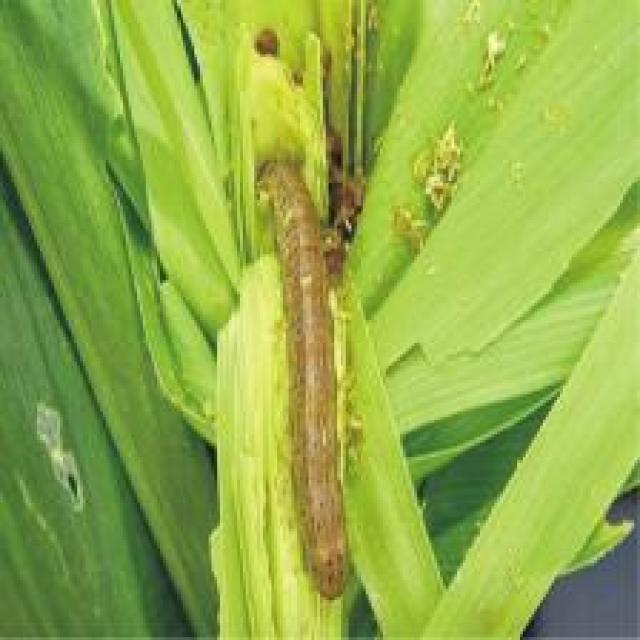Plaga: (239, 137, 354, 605)
